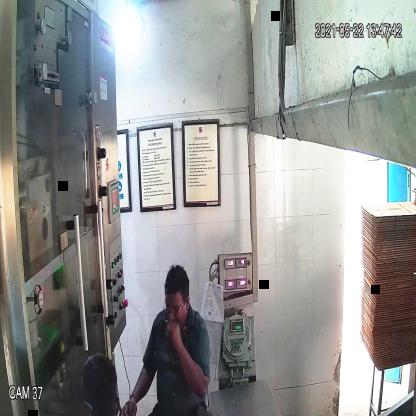goggles: (162, 300, 189, 322)
